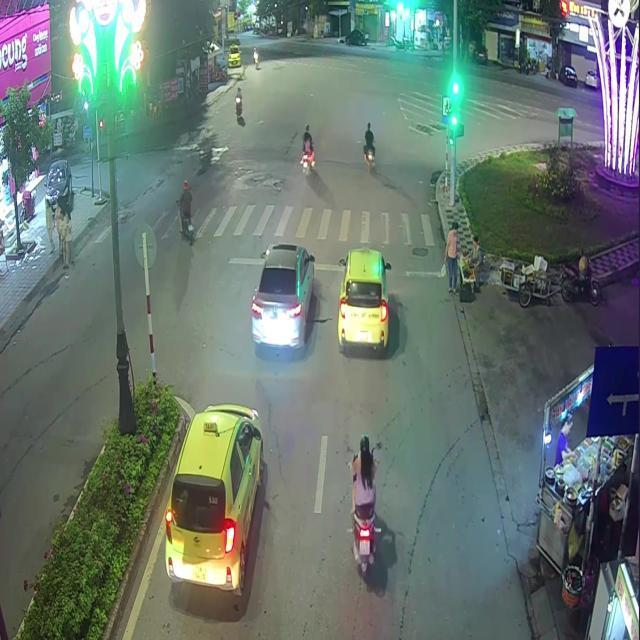car: (162, 403, 263, 596), (250, 242, 313, 350), (336, 247, 390, 352)
green_light: (450, 92, 457, 125)
motobike: (350, 433, 375, 574), (180, 214, 194, 244), (300, 151, 314, 174), (363, 147, 374, 170)
stop_line: (226, 256, 440, 277)
